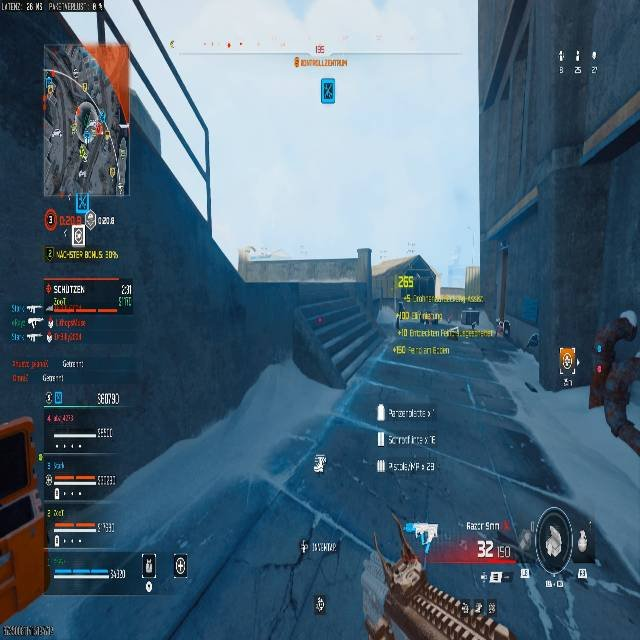player: (589, 305, 640, 465)
